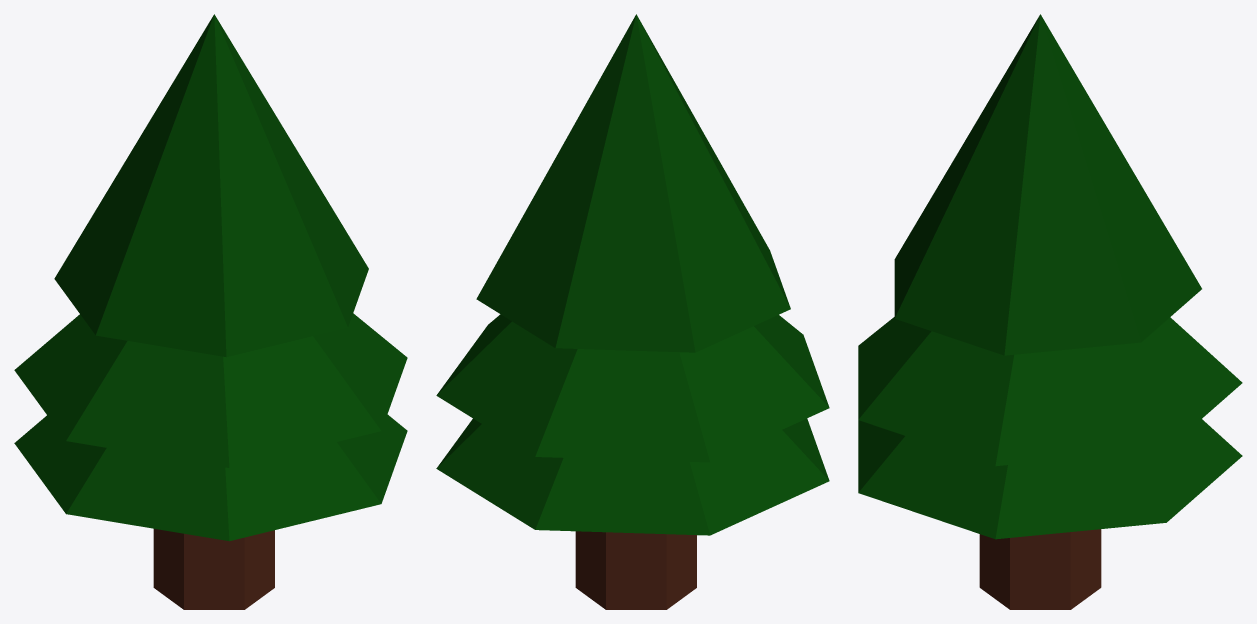
File: Detailled Tree.glb
The picture shows the model from 3 angles, left to right: view 1: azimuth 30°, elevation 25°; view 2: azimuth 150°, elevation 25°; view 3: azimuth 270°, elevation 25°; orthographic projection.
Visible parts, largest first — view 1: Cone.003, Cone.001, Cone, Cylinder.001; view 2: Cone.003, Cone.001, Cone, Cylinder.001; view 3: Cone.003, Cone.001, Cone, Cylinder.001.
Boxes of the visible parts, box(x1,y1,x2,y2) form: Cone.003: box(54, 14, 368, 357); Cone.001: box(14, 313, 407, 467); Cone: box(14, 414, 407, 541); Cylinder.001: box(153, 528, 274, 609); Cone.003: box(476, 14, 790, 352); Cone.001: box(436, 314, 829, 462); Cone: box(436, 418, 829, 535); Cylinder.001: box(575, 531, 696, 609); Cone.003: box(894, 14, 1201, 355); Cone.001: box(858, 317, 1242, 466); Cone: box(858, 419, 1242, 539); Cylinder.001: box(979, 529, 1101, 609).
Bounding box in the file's own units: 1.95 × 3.13 × 1.9.
